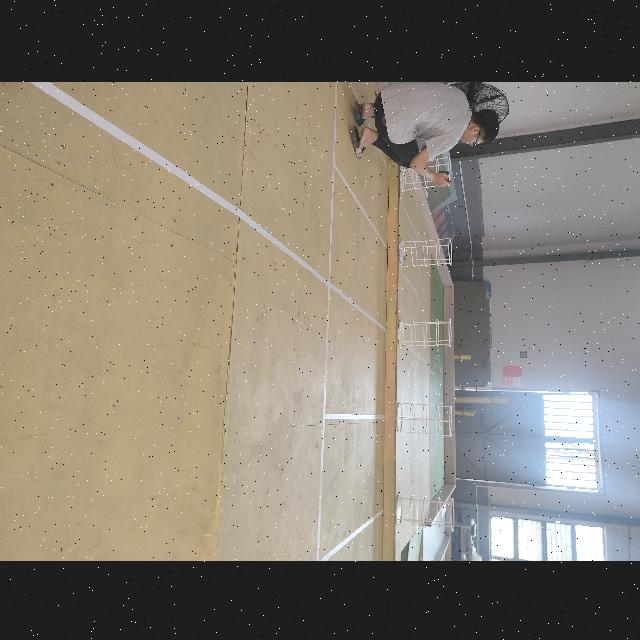S: (395, 492, 455, 531), (396, 400, 453, 436), (398, 235, 453, 266), (398, 316, 452, 347)
